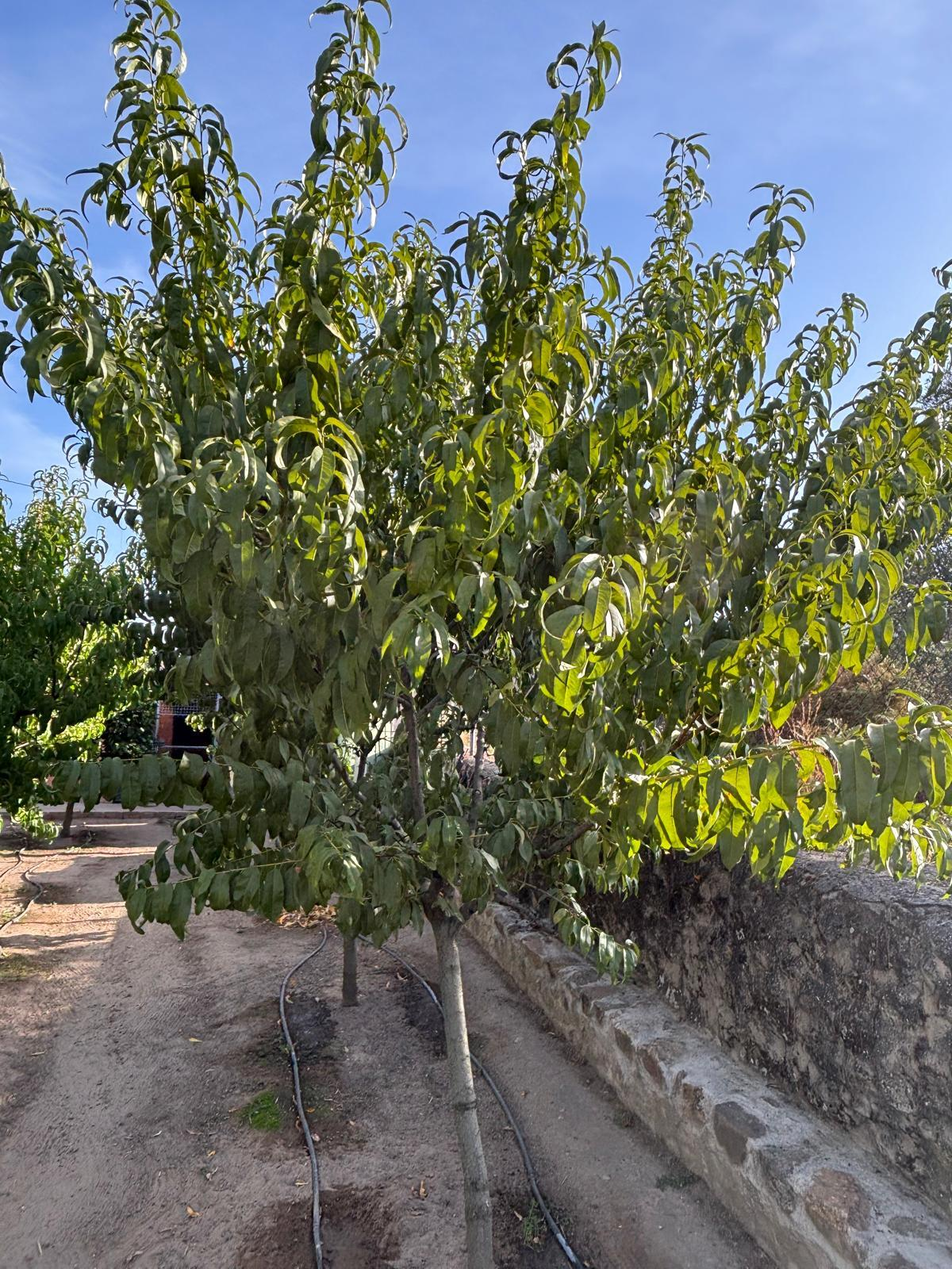melocotonero: (82, 167, 844, 1265)
